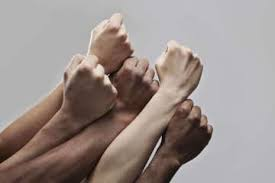fist: (67, 57, 114, 114), (159, 47, 209, 95), (170, 105, 208, 163), (91, 14, 134, 62), (117, 63, 155, 105)
